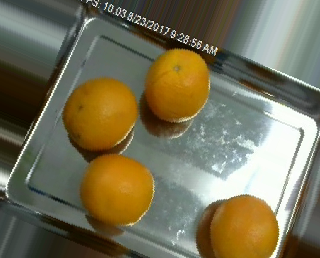Orange: (62, 75, 139, 150), (79, 152, 156, 226), (144, 47, 211, 122), (208, 194, 280, 258)
